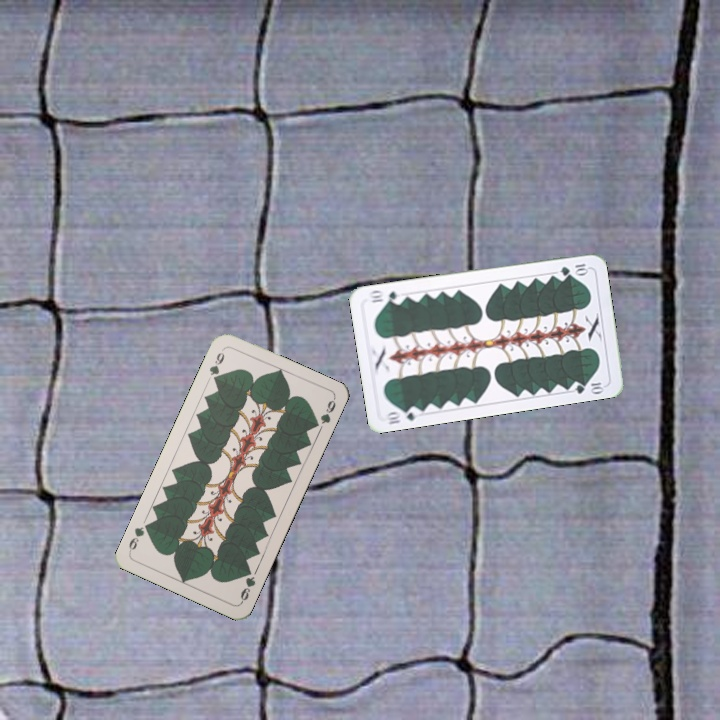G10: (381, 403, 423, 427), (556, 260, 591, 278)
G9: (236, 564, 258, 605), (205, 345, 227, 385)
